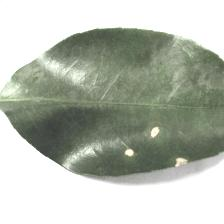canker: (126, 115, 202, 170)
